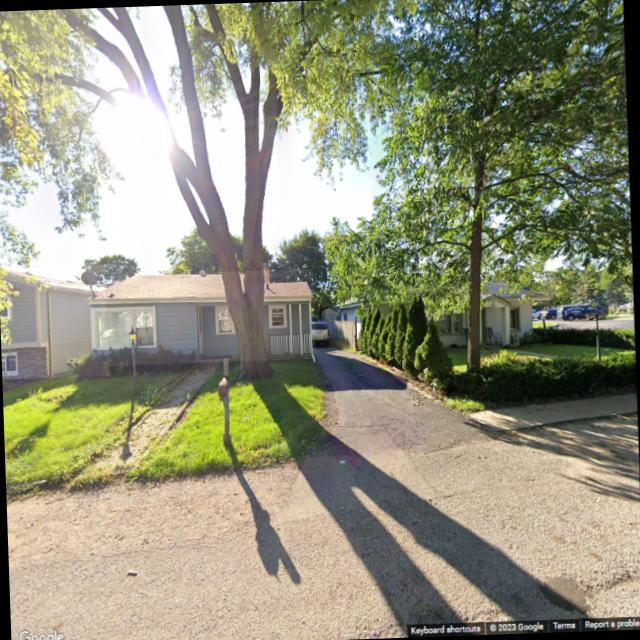House: (82, 268, 316, 366), (330, 278, 553, 353), (0, 264, 109, 379), (319, 305, 339, 320)
